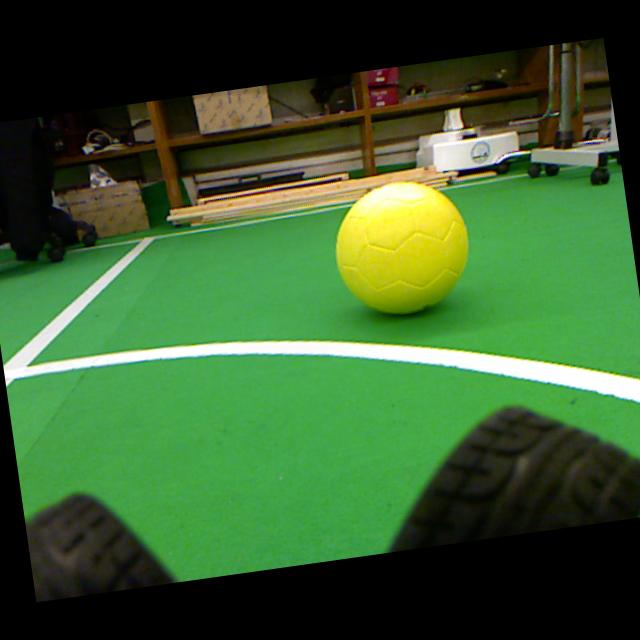ball: (338, 183, 467, 313)
